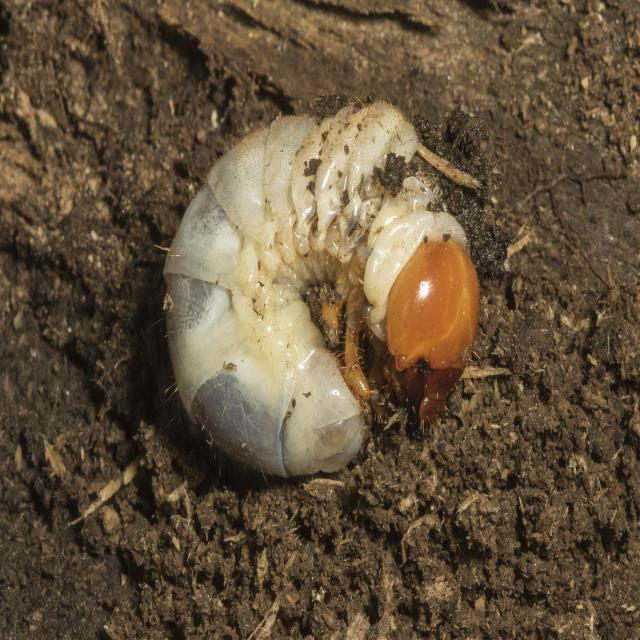Grub-Adult-: (145, 76, 489, 486)
